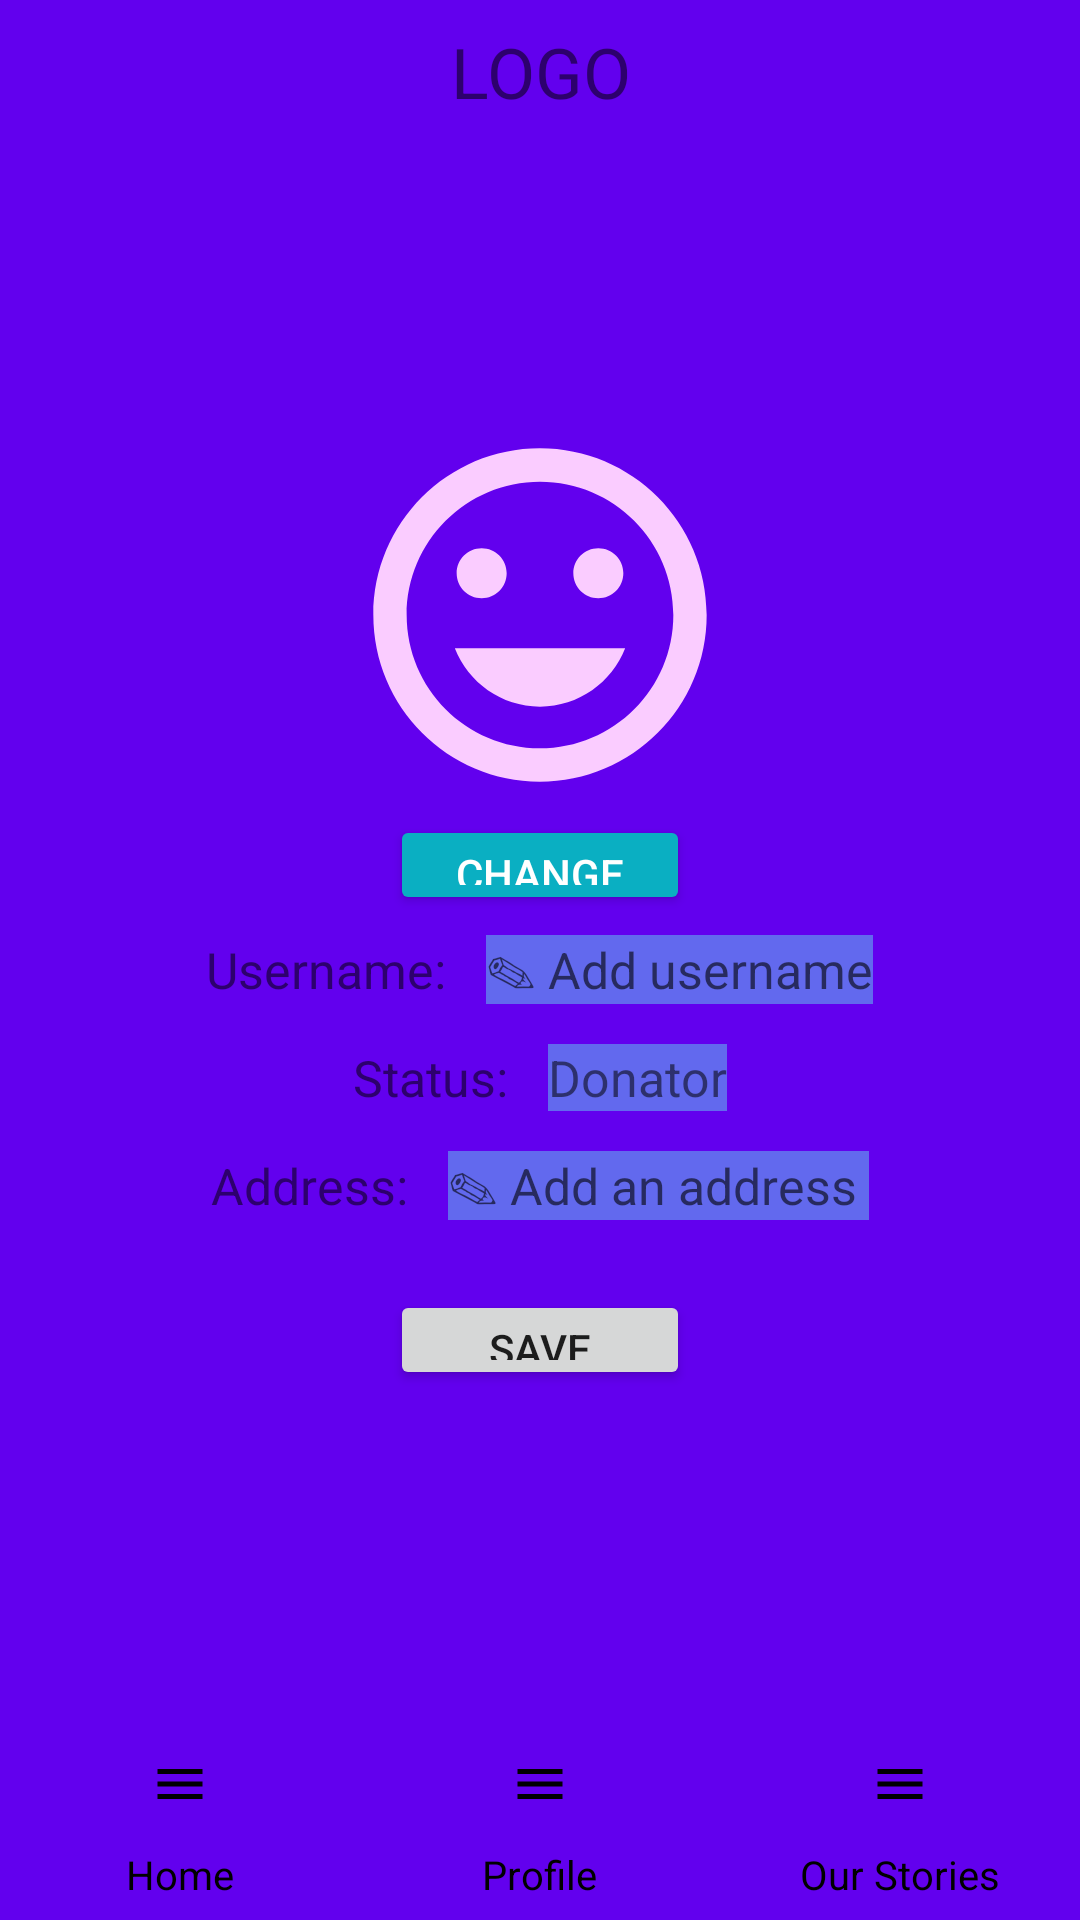

Icons on this 1080w x 1920h Android screen, each with the point to tap as (x,y):
emote: (540,615)
